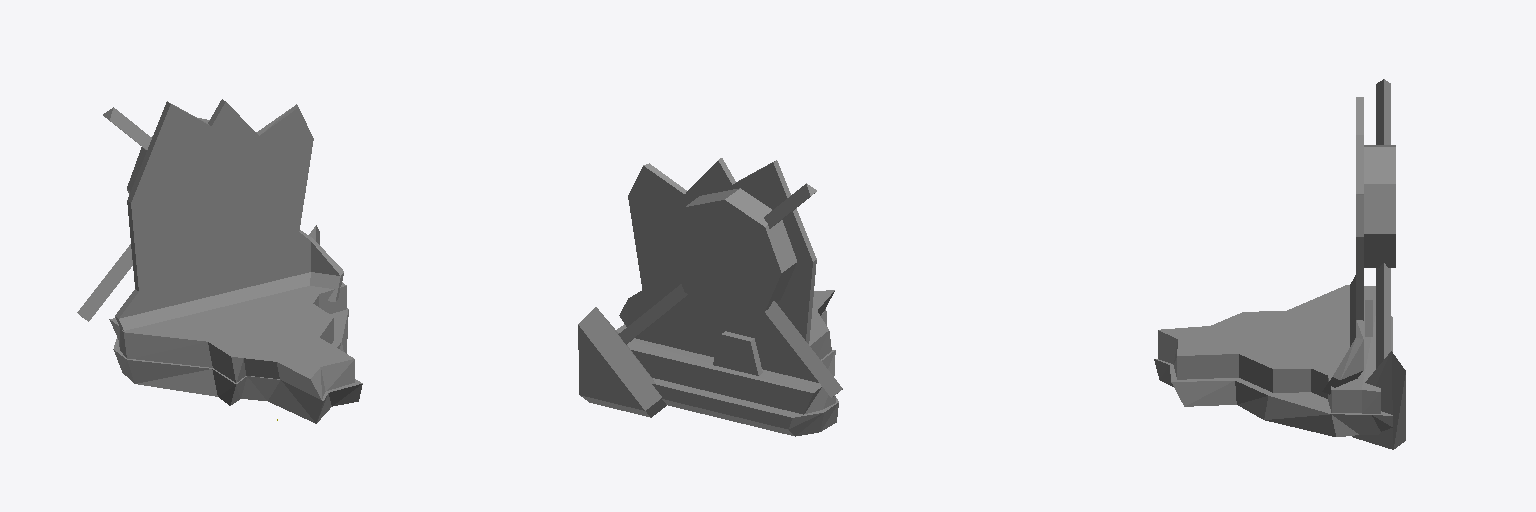
File: cpz_obj_breakbox_brk_010.obj
The picture shows the model from 3 angles: view 1: azimuth 30°, elevation 25°; view 2: azimuth 150°, elevation 25°; view 3: azimuth 270°, elevation 25°; orthographic projection.
Parts seen in each view (by area): view 1: cpz_glass_tn1_glasstube, cpz_metal_yy_slop_cmn_dpn, cpz_yy1_road_cmn_dp; view 2: cpz_glass_tn1_glasstube, cpz_metal_yy_slop_cmn_dpn, ccp_metal_yy_circle_Cmn_dpn, ccp_metal_yy_yelow_Cmn_dpn, cpz_yy1_road_cmn_dp, cpz_metal_st1_tank01_cmn_dpnE; view 3: cpz_metal_yy_slop_cmn_dpn, cpz_yy1_road_cmn_dp, cpz_glass_tn1_glasstube, ccp_metal_yy_yelow_Cmn_dpn.
Boxes of the visible parts, x1=… form: cpz_glass_tn1_glasstube: x1=115, y1=99, x2=343, y2=330; cpz_metal_yy_slop_cmn_dpn: x1=81, y1=107, x2=362, y2=423; cpz_yy1_road_cmn_dp: x1=77, y1=108, x2=209, y2=321; cpz_glass_tn1_glasstube: x1=619, y1=158, x2=818, y2=382; cpz_metal_yy_slop_cmn_dpn: x1=578, y1=183, x2=842, y2=436; ccp_metal_yy_circle_Cmn_dpn: x1=668, y1=200, x2=781, y2=318; ccp_metal_yy_yelow_Cmn_dpn: x1=627, y1=340, x2=822, y2=414; cpz_yy1_road_cmn_dp: x1=618, y1=184, x2=842, y2=397; cpz_metal_st1_tank01_cmn_dpnE: x1=713, y1=331, x2=762, y2=375; cpz_metal_yy_slop_cmn_dpn: x1=1154, y1=285, x2=1405, y2=449; cpz_yy1_road_cmn_dp: x1=1364, y1=79, x2=1395, y2=368; cpz_glass_tn1_glasstube: x1=1322, y1=97, x2=1363, y2=394; ccp_metal_yy_yelow_Cmn_dpn: x1=1362, y1=286, x2=1380, y2=413.
Size of the model in its own units: 53.9 by 55.03 by 46.31.